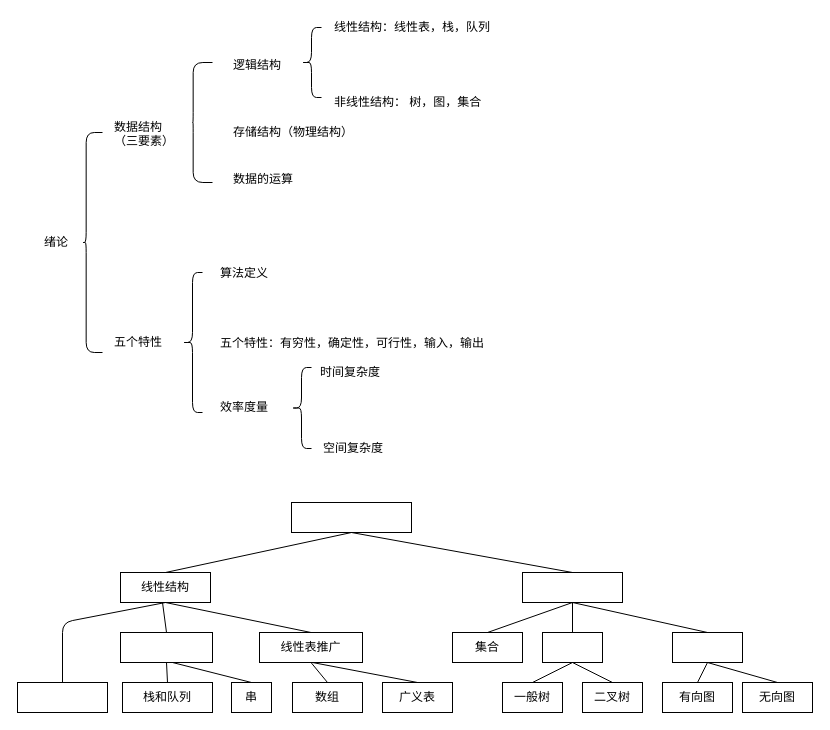
This 830x730 diagram has some shape labels left out. The shapes that lost their labels are listed below. From the top down, each one's centre as x and y in pixels, then its label:
At point 351,517: "数据的逻辑结构".
At point 572,587: "非线性结构".
At point 166,647: "受限线性表".
At point 572,647: "树形结构".
At point 707,647: "图状结构".
At point 62,697: "一般线性表".
